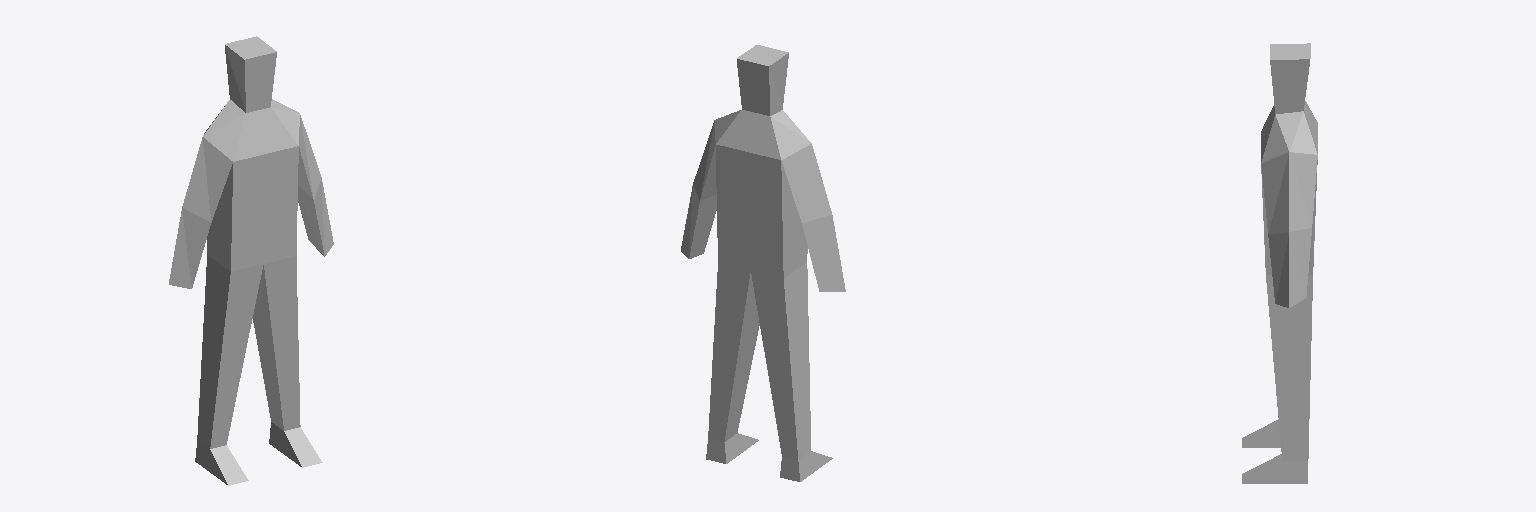
The model's file is statue_full.obj.
3 renders of one model, left to right at view 1: azimuth 30°, elevation 25°; view 2: azimuth 150°, elevation 25°; view 3: azimuth 270°, elevation 25°, orthographic.
Parts seen in each view (by area): view 1: HumanLow_Cube; view 2: HumanLow_Cube; view 3: HumanLow_Cube.
Boxes of the visible parts, x1=… form: HumanLow_Cube: x1=169, y1=36, x2=333, y2=485; HumanLow_Cube: x1=681, y1=45, x2=845, y2=481; HumanLow_Cube: x1=1242, y1=43, x2=1317, y2=483.
Bounding box in the file's own units: 40.32 × 95.32 × 16.